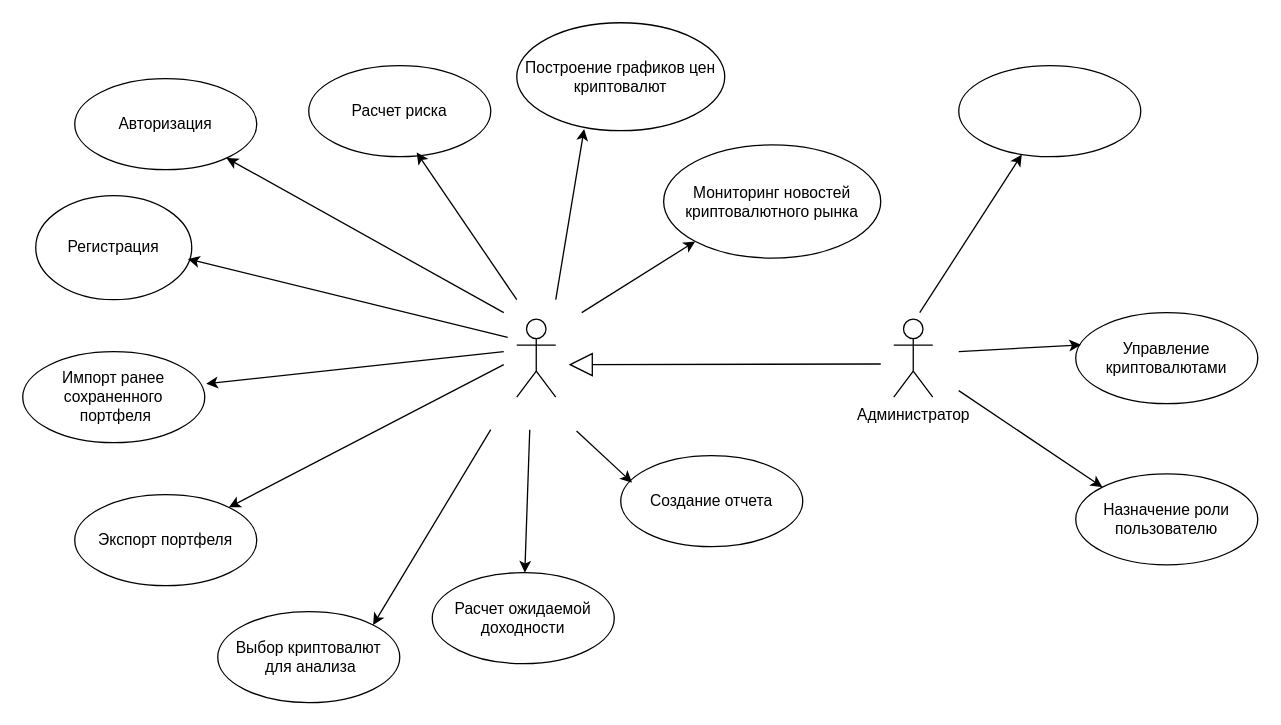
Some shapes in this 1281 by 725 pixel diagram are drawn without their labels. Here are the shapes that lost their labels. From the top down, the box of each, then its label:
(957, 64, 1141, 157): Управление пользователями
(515, 318, 556, 397): Пользователь
